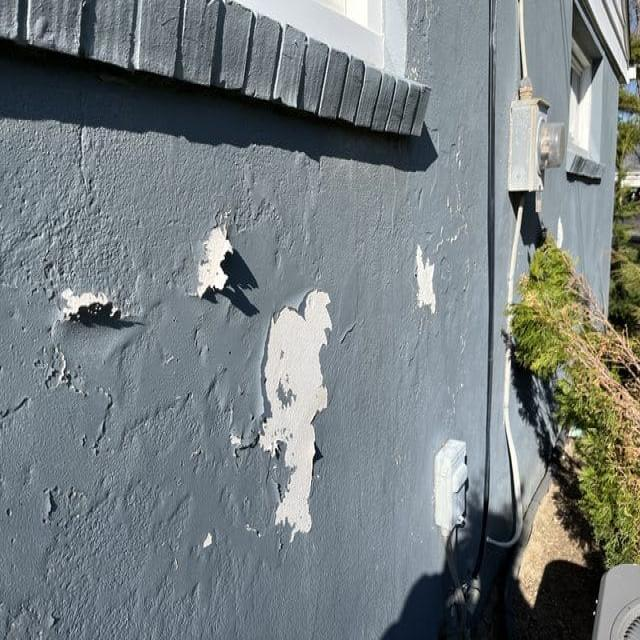peeling: (235, 289, 330, 536), (187, 219, 239, 317), (49, 278, 122, 335), (411, 256, 438, 315)
